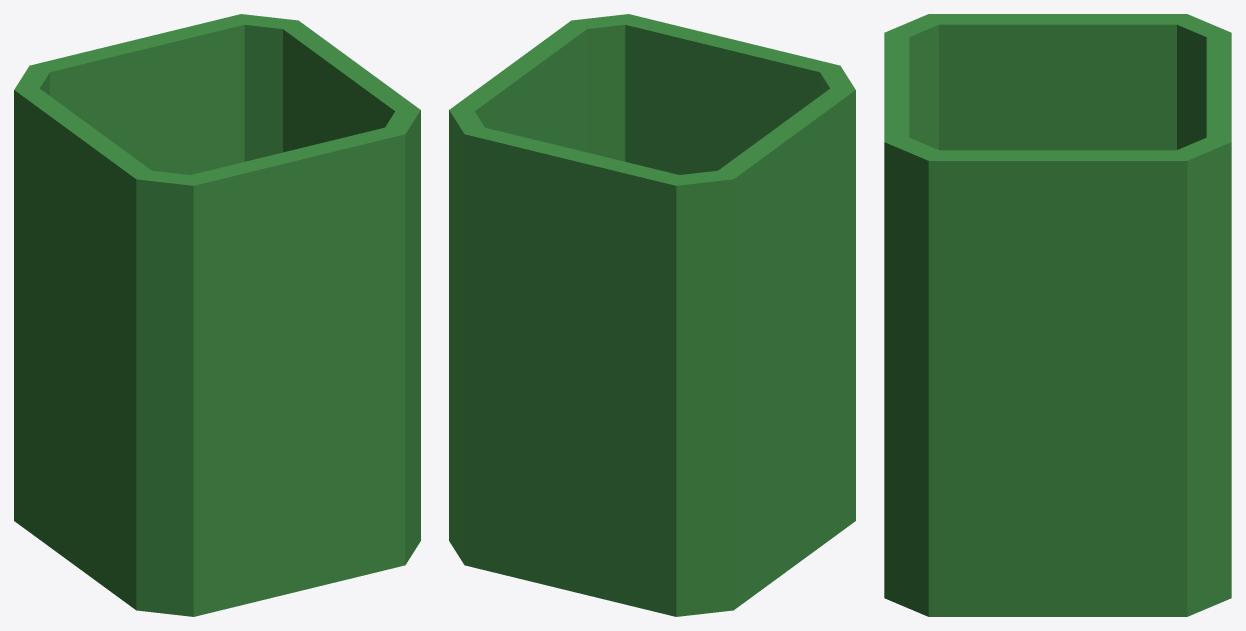
The model's file is Vulcan Rubber Band v3.fbx.
3 views of the same model, side by side, from view 1: azimuth 30°, elevation 25°; view 2: azimuth 150°, elevation 25°; view 3: azimuth 270°, elevation 25° (orthographic). The views are drawn at different scales.
Visible parts, largest first — view 1: Body1; view 2: Body1; view 3: Body1.
Boxes of the visible parts, x1,y1,x2,y2 form: Body1: (14,14,420,616); Body1: (449,14,855,616); Body1: (884,14,1231,616).
Size of the model in its own units: 0.6906 by 1 by 0.6906.
